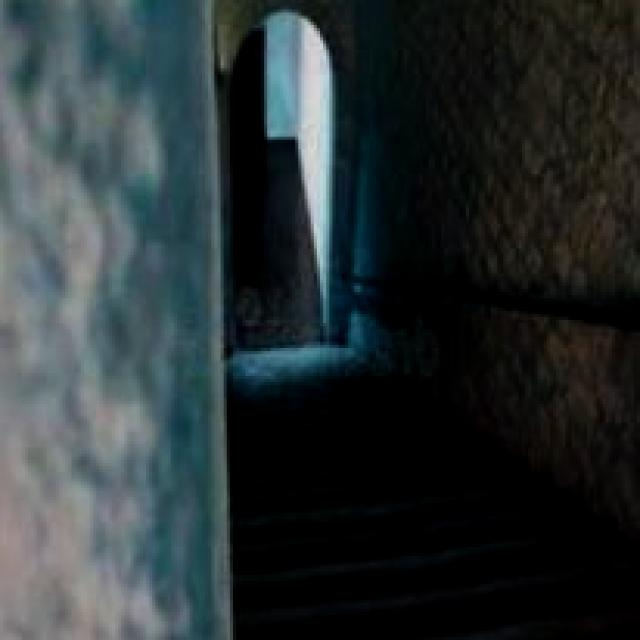downstair: (228, 495, 629, 640)
